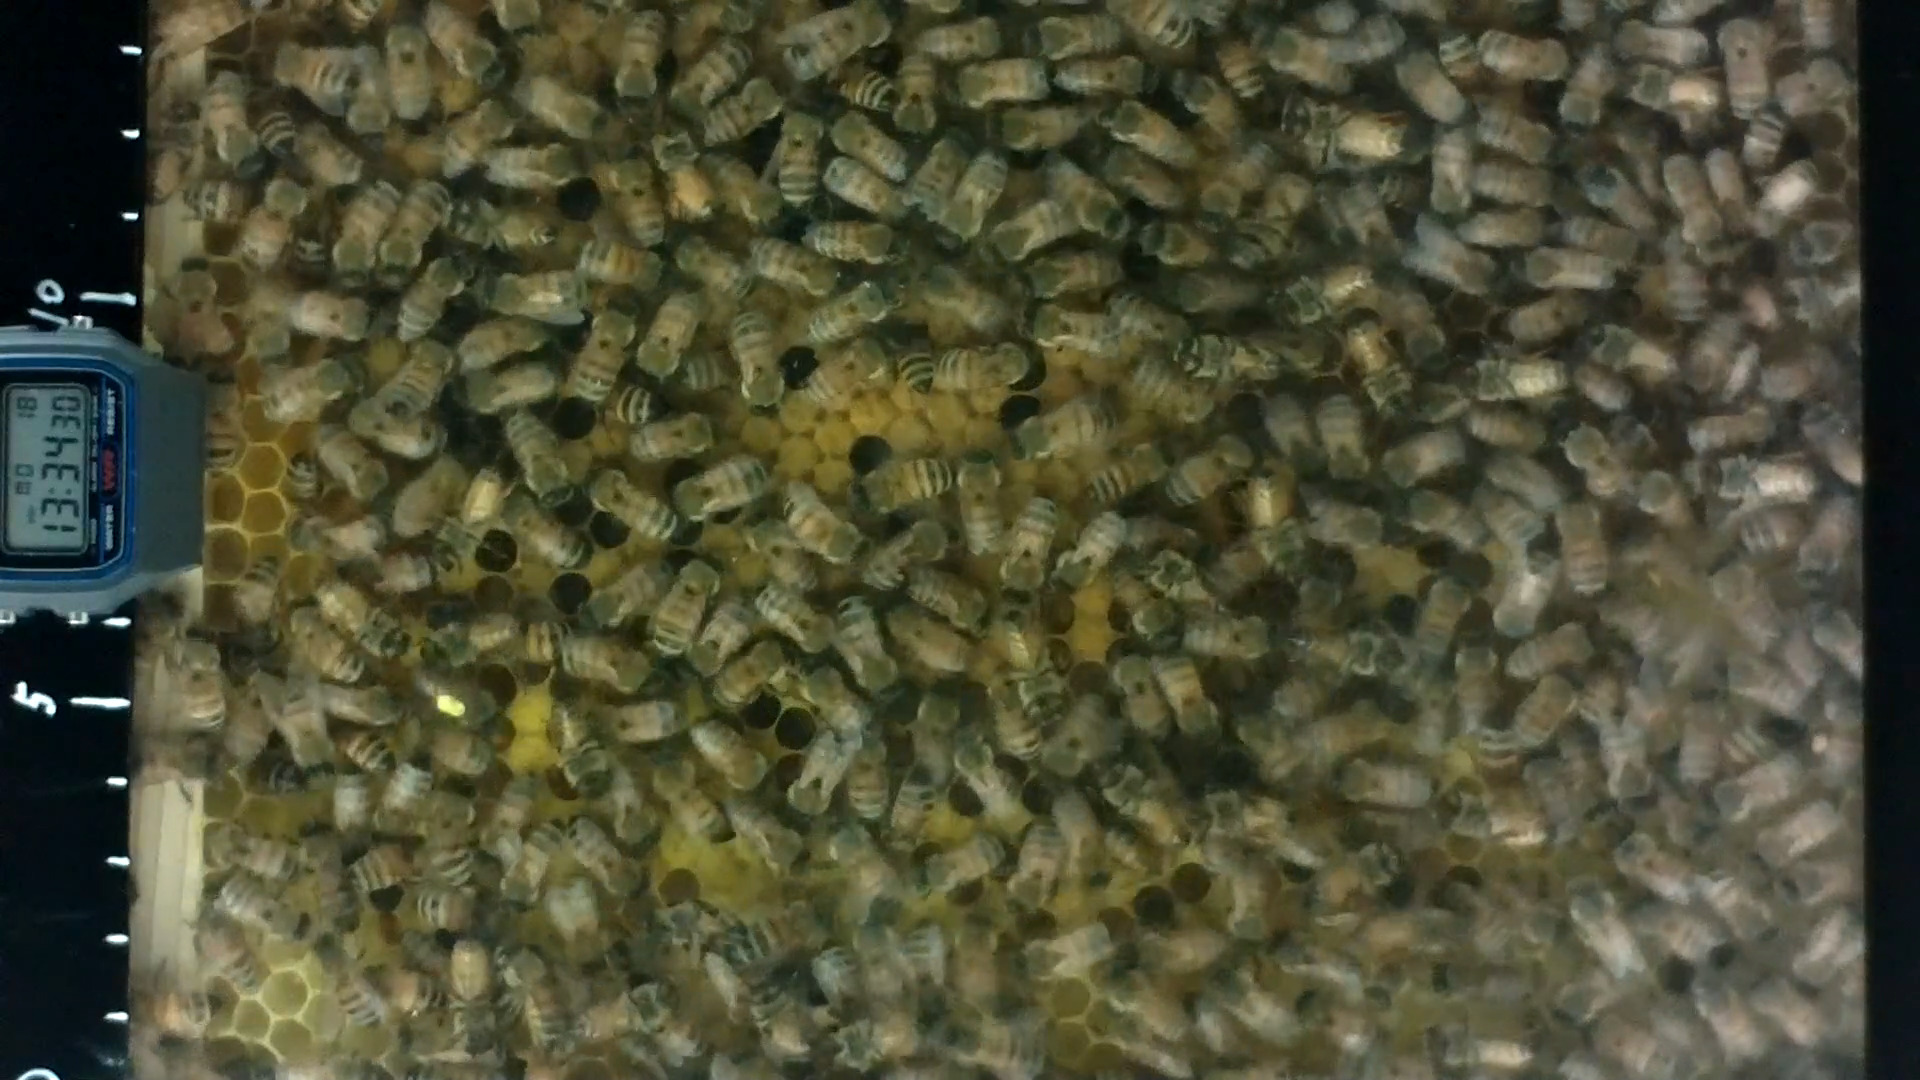hati: (914, 255, 1013, 342), (1007, 389, 1114, 469), (276, 676, 344, 799), (650, 760, 729, 858), (785, 495, 876, 578), (827, 589, 899, 694), (725, 305, 793, 417), (498, 411, 574, 512), (1164, 426, 1247, 516), (469, 262, 584, 327), (585, 462, 673, 545), (417, 607, 518, 678), (568, 815, 649, 905), (554, 638, 655, 708), (1510, 244, 1625, 305), (1341, 320, 1414, 415), (378, 174, 444, 277), (757, 589, 841, 669), (608, 5, 665, 123), (241, 175, 314, 266), (311, 419, 388, 504), (655, 558, 719, 654), (1469, 105, 1565, 169), (785, 9, 891, 66), (257, 359, 356, 419), (843, 455, 953, 509), (603, 154, 667, 247), (1004, 815, 1063, 915), (385, 21, 440, 128), (222, 881, 313, 945), (1018, 243, 1129, 295), (1000, 487, 1052, 596), (1018, 307, 1122, 363), (1476, 30, 1568, 92), (571, 301, 630, 397), (731, 800, 806, 876), (806, 339, 887, 407), (800, 223, 914, 270), (637, 293, 698, 381), (568, 240, 673, 291), (902, 131, 963, 215), (957, 450, 1004, 558), (953, 149, 1006, 243), (1418, 570, 1468, 667), (206, 829, 301, 880), (392, 334, 450, 415), (777, 103, 822, 208), (485, 142, 584, 190), (1060, 513, 1121, 589), (949, 61, 1048, 107), (675, 465, 769, 513), (265, 44, 353, 94), (891, 53, 940, 138)
